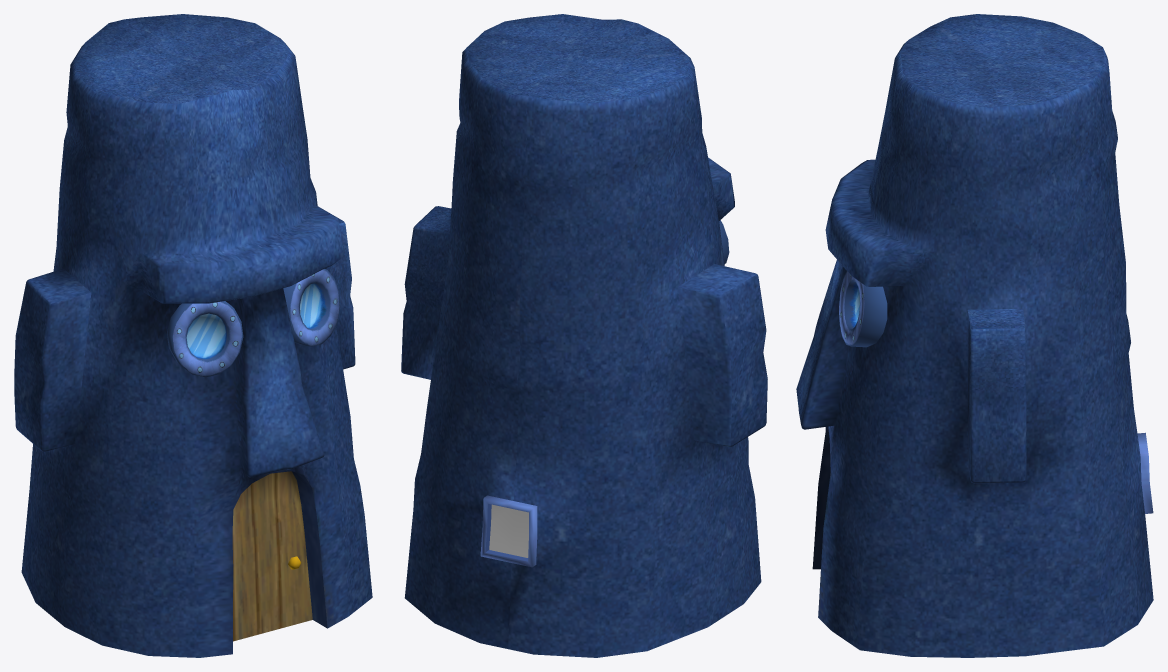
3 views of the same model, side by side, from view 1: azimuth 30°, elevation 25°; view 2: azimuth 150°, elevation 25°; view 3: azimuth 270°, elevation 25° (orthographic). The views are drawn at different scales.
Visible parts, largest first — view 1: MSH_SquidwardHouse; view 2: MSH_SquidwardHouse, MSH_SquidwardHouse.001; view 3: MSH_SquidwardHouse.
Part boxes in pixels (left/top/right/bottom): MSH_SquidwardHouse: left=14, top=14, right=372, bottom=657; MSH_SquidwardHouse: left=401, top=14, right=767, bottom=657; MSH_SquidwardHouse.001: left=489, top=504, right=528, bottom=557; MSH_SquidwardHouse: left=796, top=14, right=1153, bottom=657.
Size of the model in its own units: 1013 by 1558 by 946.
